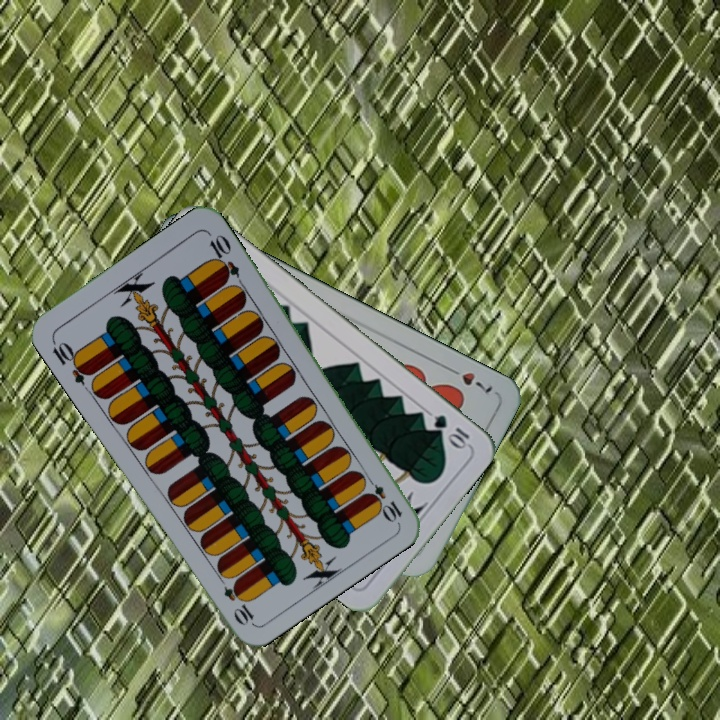E10: (48, 335, 95, 387), (360, 471, 405, 524)
G10: (429, 410, 472, 451)
H7: (443, 362, 495, 398)
